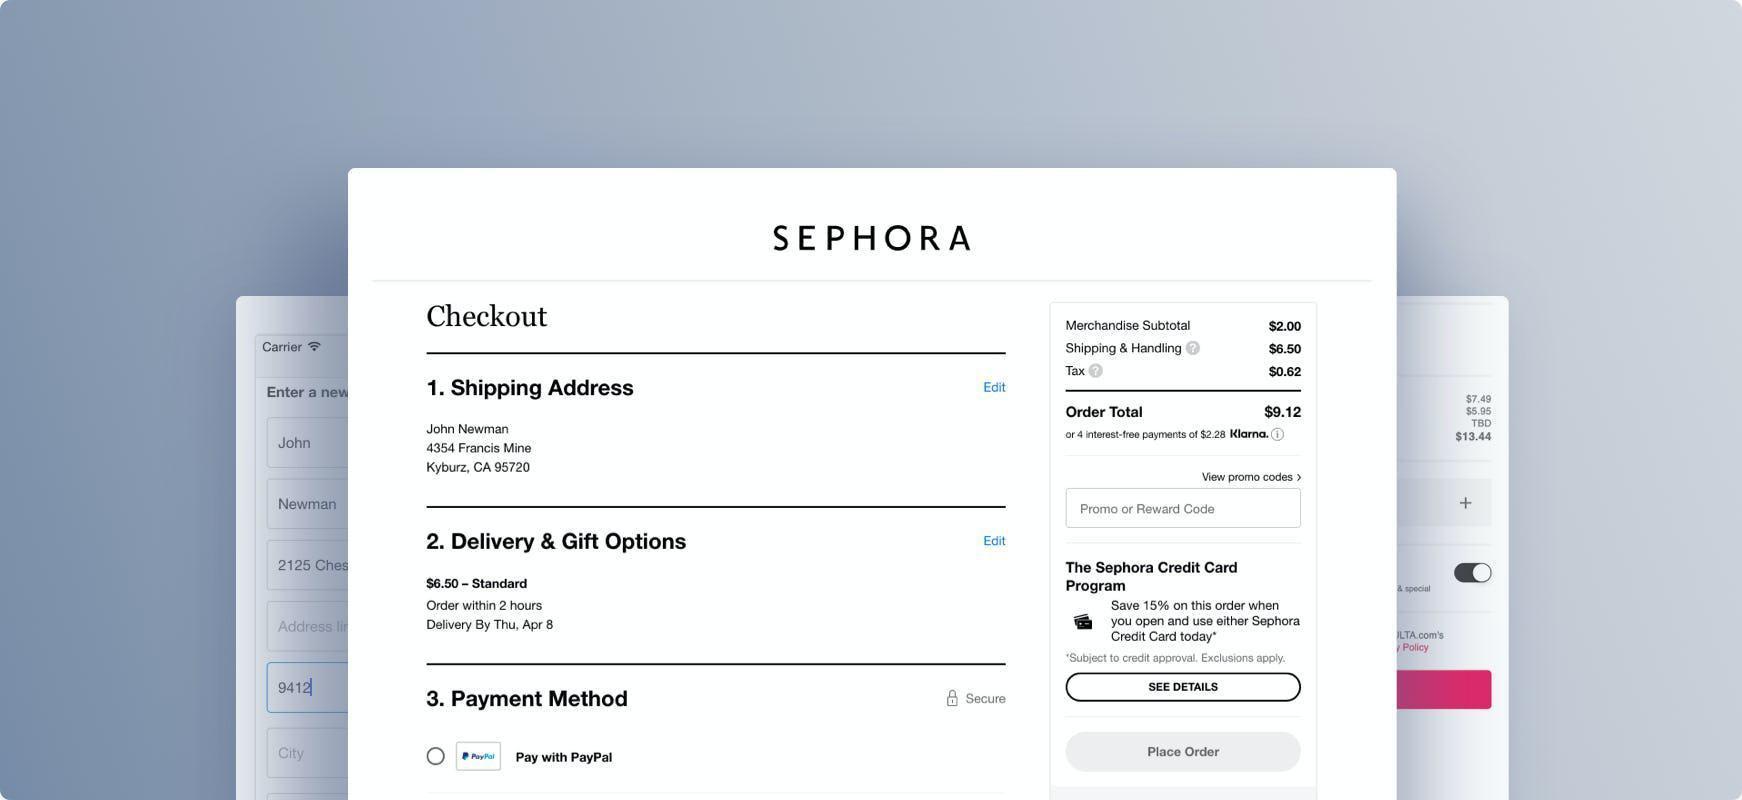button: (1067, 734, 1300, 772), (1067, 676, 1302, 703), (458, 741, 501, 772)
icon: (1073, 610, 1097, 637), (943, 684, 963, 711), (1087, 362, 1107, 381), (1271, 426, 1289, 446), (1185, 339, 1201, 359)
input: (1067, 488, 1304, 530)
label: (967, 688, 1012, 709)
radio: (426, 747, 448, 768)
